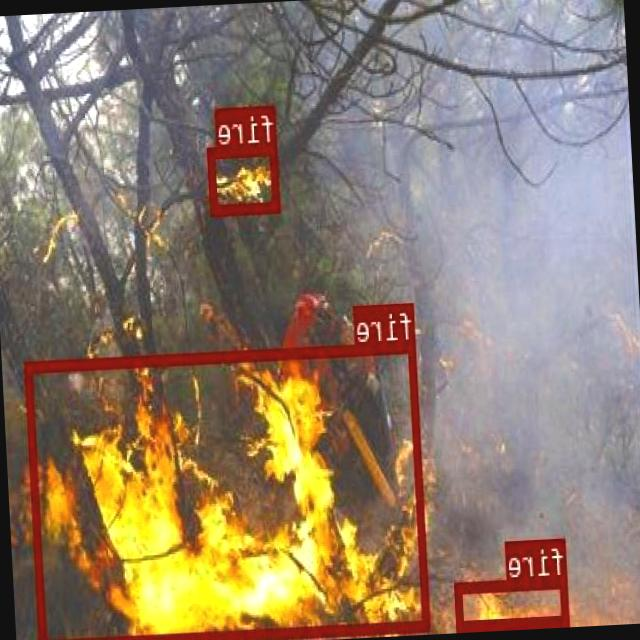fire: (26, 339, 431, 640), (456, 576, 570, 630), (208, 143, 282, 215)
